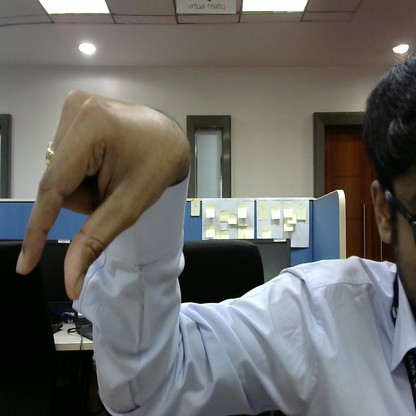q: (14, 85, 186, 302)
